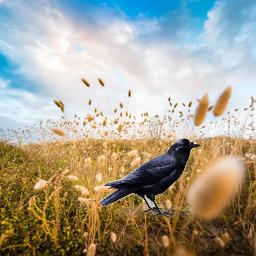Crow: (99, 138, 201, 218)
